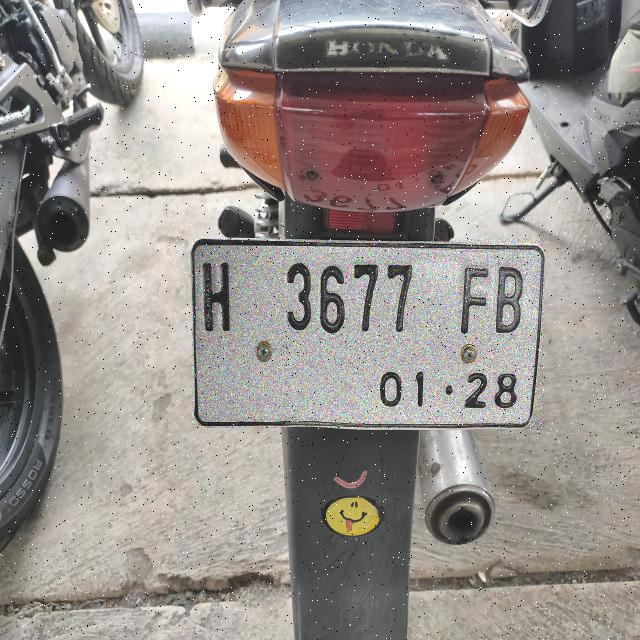plate: (192, 240, 543, 427)
